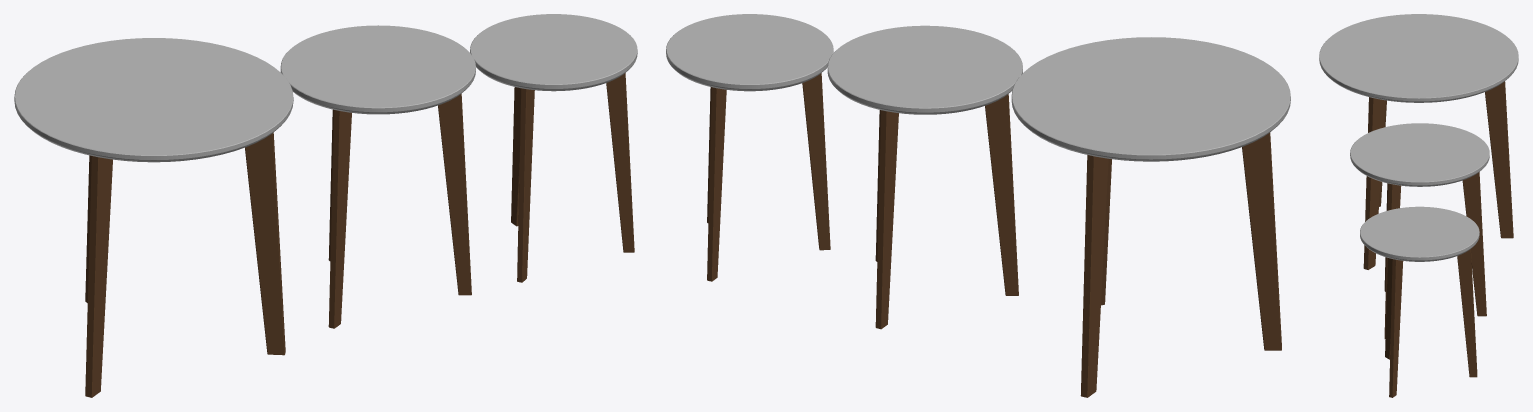
The model's file is Abin.FBX.
3 renders of one model, left to right at view 1: azimuth 30°, elevation 25°; view 2: azimuth 150°, elevation 25°; view 3: azimuth 270°, elevation 25°, orthographic. The views are drawn at different scales.
Visible parts, largest first — view 1: Abin_D50, Abin_D35, Abin_D30; view 2: Abin_D50, Abin_D35, Abin_D30; view 3: Abin_D50, Abin_D35, Abin_D30.
Part boxes in pixels (box(x1,y1,x2,y2)): Abin_D50: box(14, 38, 293, 397); Abin_D35: box(280, 25, 475, 328); Abin_D30: box(470, 14, 637, 282); Abin_D50: box(1011, 37, 1290, 397); Abin_D35: box(827, 25, 1022, 329); Abin_D30: box(666, 14, 833, 281); Abin_D50: box(1319, 14, 1518, 269); Abin_D35: box(1350, 123, 1489, 339); Abin_D30: box(1360, 206, 1479, 397).
Bounding box in the file's own units: 123 × 50.01 × 50.
